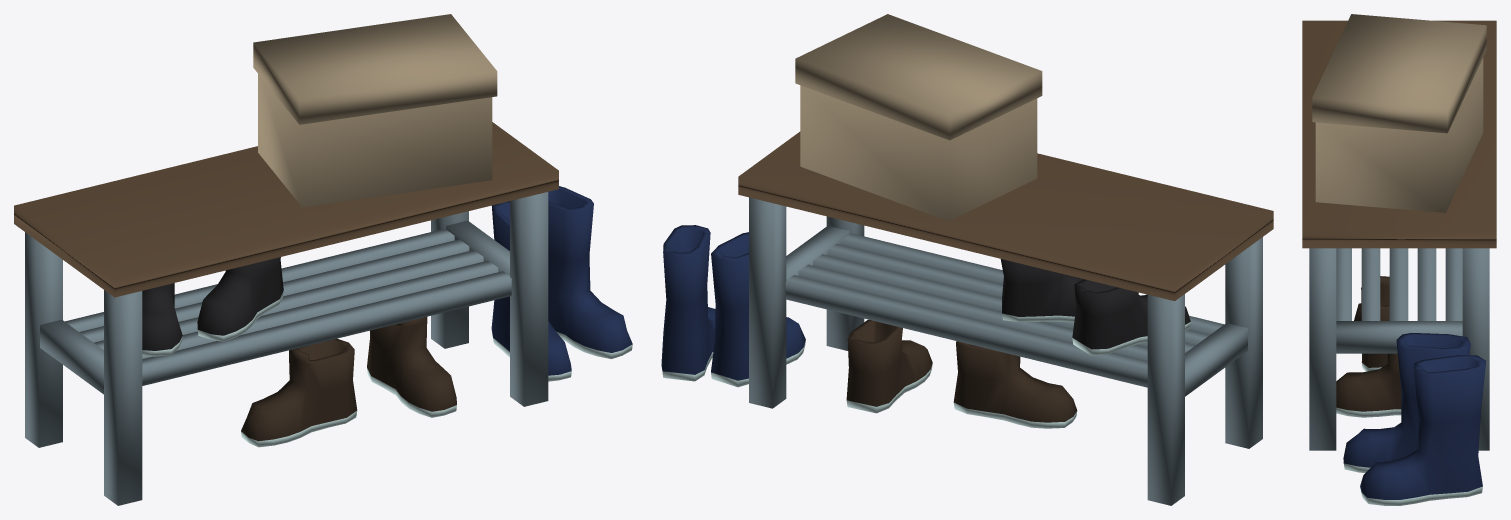
The model's file is ShoeRack_Hall_V1.fbx.
3 views of the same model, side by side, from view 1: azimuth 30°, elevation 25°; view 2: azimuth 150°, elevation 25°; view 3: azimuth 270°, elevation 25° (orthographic). The views are drawn at different scales.
Parts seen in each view (by area): view 1: Cube.004, Cube, Cube.001, Cube.003, Cube.006, Cube.009, Cube.005, Cube.008, Cube.002, Cube.010, Cube.007; view 2: Cube.004, Cube, Cube.001, Cube.003, Cube.006, Cube.009, Cube.010, Cube.005, Cube.007, Cube.008, Cube.002; view 3: Cube.004, Cube, Cube.006, Cube.001, Cube.003, Cube.010, Cube.005, Cube.002, Cube.009.
Part boxes in pixels (left/top/right/bottom): Cube.004: left=253, top=14, right=497, bottom=207; Cube: left=14, top=122, right=558, bottom=297; Cube.001: left=25, top=192, right=548, bottom=505; Cube.003: left=65, top=229, right=511, bottom=385; Cube.006: left=548, top=186, right=632, bottom=358; Cube.009: left=241, top=338, right=357, bottom=447; Cube.005: left=367, top=316, right=456, bottom=417; Cube.008: left=197, top=257, right=283, bottom=341; Cube.002: left=40, top=220, right=509, bottom=394; Cube.010: left=491, top=201, right=571, bottom=381; Cube.007: left=142, top=283, right=182, bottom=356; Cube.004: left=795, top=14, right=1042, bottom=221; Cube: left=738, top=131, right=1273, bottom=301; Cube.001: left=749, top=197, right=1262, bottom=505; Cube.003: left=785, top=233, right=1223, bottom=387; Cube.006: left=661, top=225, right=715, bottom=381; Cube.009: left=953, top=341, right=1077, bottom=428; Cube.010: left=711, top=232, right=805, bottom=387; Cube.005: left=846, top=320, right=932, bottom=413; Cube.007: left=1072, top=279, right=1190, bottom=355; Cube.008: left=1000, top=259, right=1083, bottom=322; Cube.002: left=786, top=225, right=1247, bottom=396; Cube.004: left=1312, top=14, right=1486, bottom=212; Cube: left=1302, top=20, right=1496, bottom=248; Cube.006: left=1360, top=355, right=1486, bottom=505; Cube.001: left=1309, top=248, right=1489, bottom=450; Cube.003: left=1336, top=248, right=1462, bottom=320; Cube.010: left=1343, top=333, right=1470, bottom=472; Cube.005: left=1336, top=353, right=1401, bottom=417; Cube.002: left=1336, top=321, right=1462, bottom=353; Cube.009: left=1354, top=276, right=1389, bottom=371.
Size of the model in its own units: 640 by 375 by 200.
